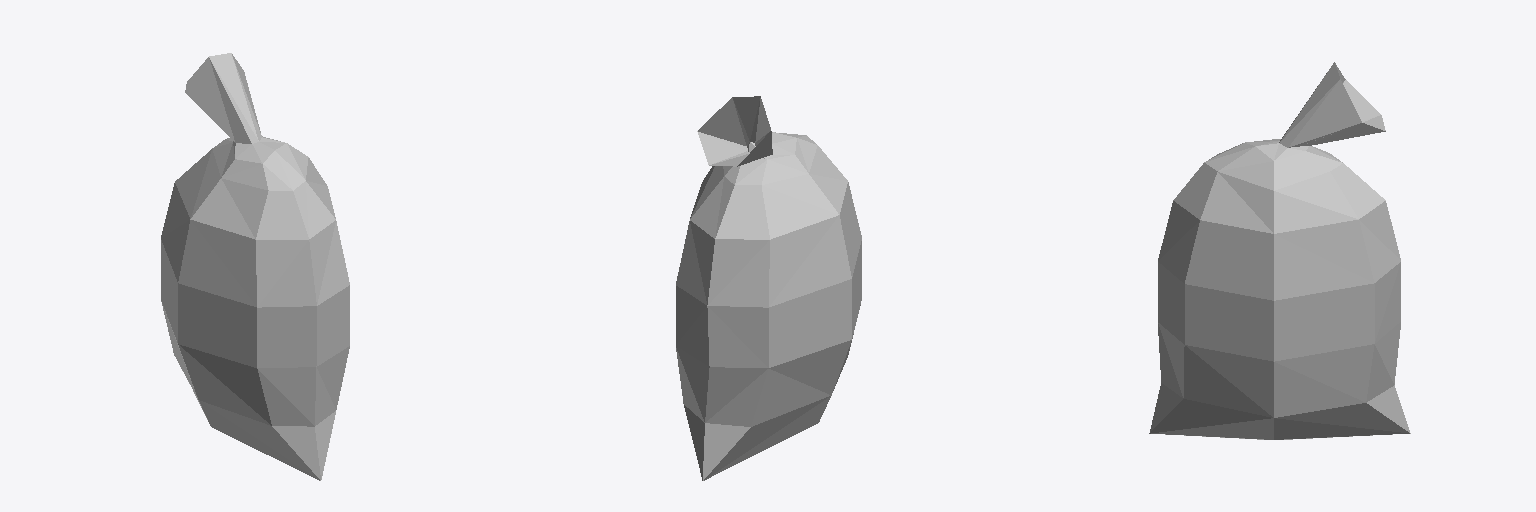
File: P_Modul_26_Sack.obj
3 renders of one model, left to right at view 1: azimuth 30°, elevation 25°; view 2: azimuth 150°, elevation 25°; view 3: azimuth 270°, elevation 25°, orthographic.
Visible parts, largest first — view 1: P_Modul_26_Sack; view 2: P_Modul_26_Sack; view 3: P_Modul_26_Sack.
Boxes of the visible parts, box(x1,y1,x2,y2) form: P_Modul_26_Sack: box(161, 53, 349, 480); P_Modul_26_Sack: box(676, 96, 861, 480); P_Modul_26_Sack: box(1149, 62, 1410, 439).
Bounding box in the file's own units: 2.79 × 6.07 × 3.89.